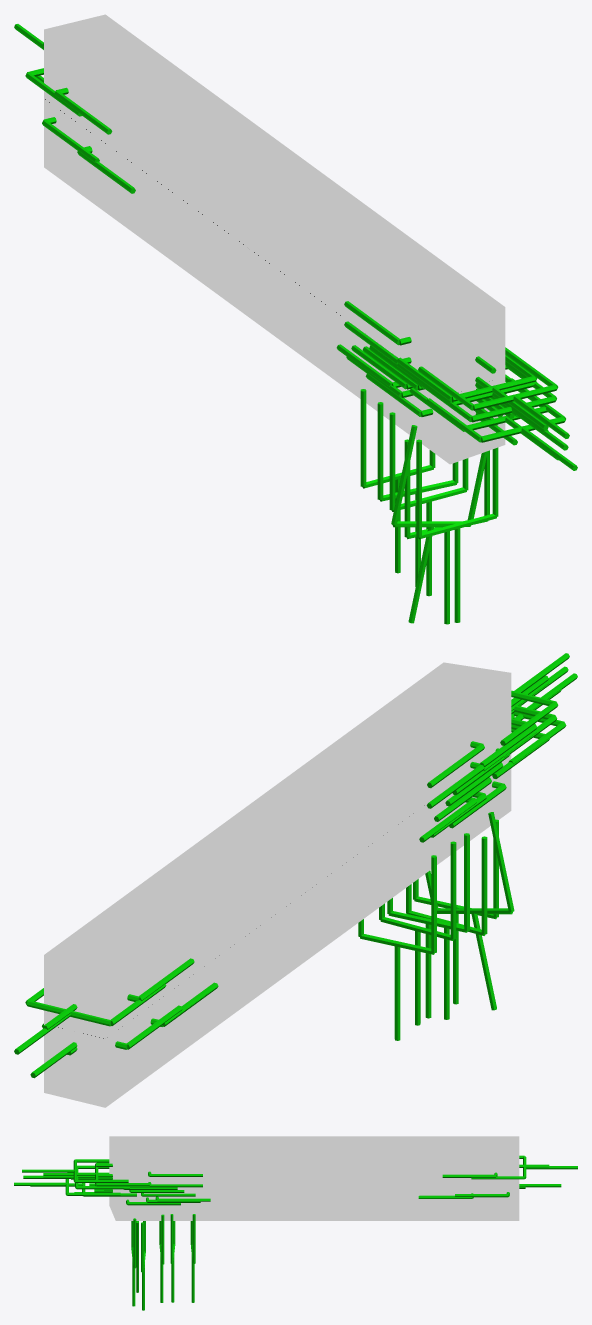
The picture shows the model from 3 angles, top to bottom: view 1: azimuth 30°, elevation 25°; view 2: azimuth 150°, elevation 25°; view 3: azimuth 270°, elevation 25°; orthographic projection. The views are drawn at different scales.
Parts seen in each view (by area): view 1: 00111174_580584be8cece559b6a9ef45_step_002_0000.obj, world; view 2: 00111174_580584be8cece559b6a9ef45_step_002_0000.obj, world; view 3: 00111174_580584be8cece559b6a9ef45_step_002_0000.obj, world.
Boxes of the visible parts, x1=… form: 00111174_580584be8cece559b6a9ef45_step_002_0000.obj: x1=44, y1=14, x2=505, y2=464; world: x1=14, y1=24, x2=577, y2=624; 00111174_580584be8cece559b6a9ef45_step_002_0000.obj: x1=44, y1=662, x2=511, y2=1107; world: x1=14, y1=653, x2=577, y2=1078; 00111174_580584be8cece559b6a9ef45_step_002_0000.obj: x1=109, y1=1136, x2=519, y2=1220; world: x1=14, y1=1155, x2=577, y2=1310.
Bounding box in the file's own units: 76.35 × 227 × 699.
